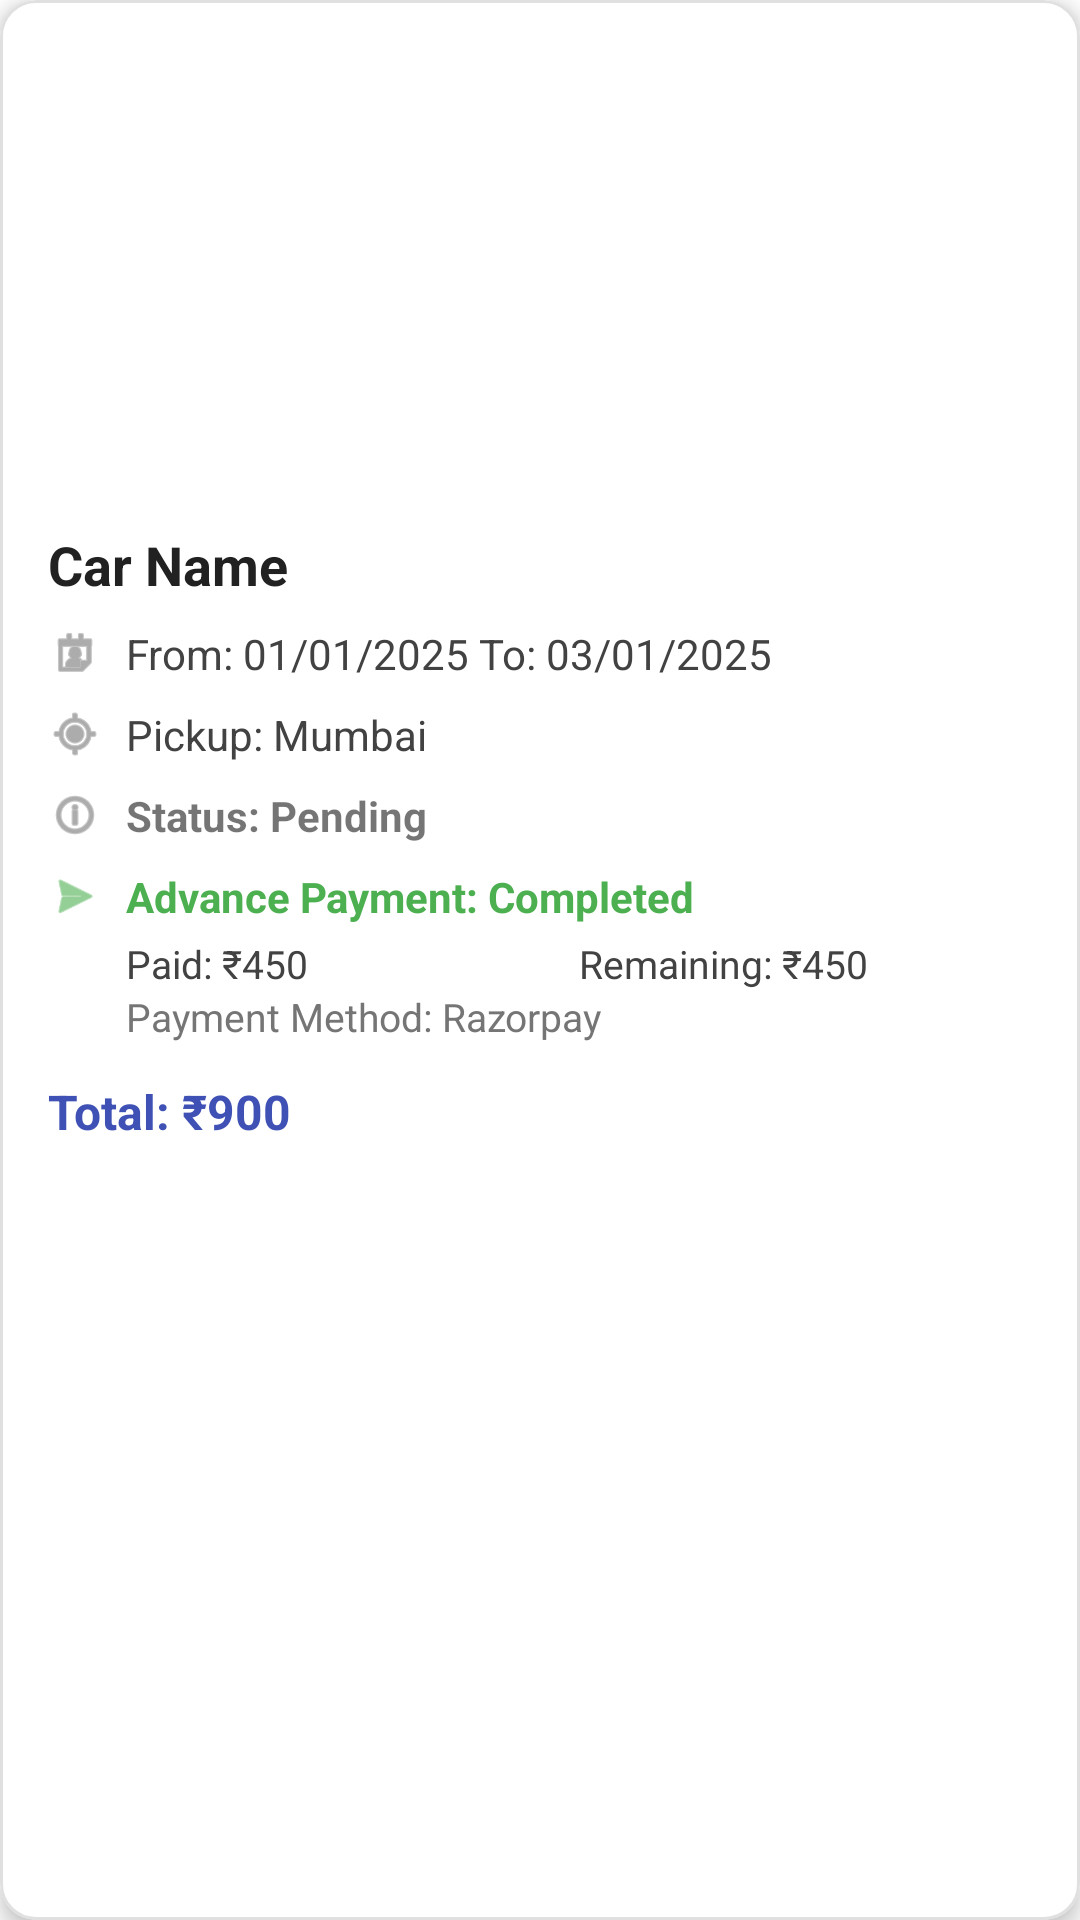

Icons on this 1080 x 1920 Android screen, each with the point to tap as (x,y):
calendar: (75,652)
info details: (75,815)
mylocation: (74,734)
send: (75,896)
